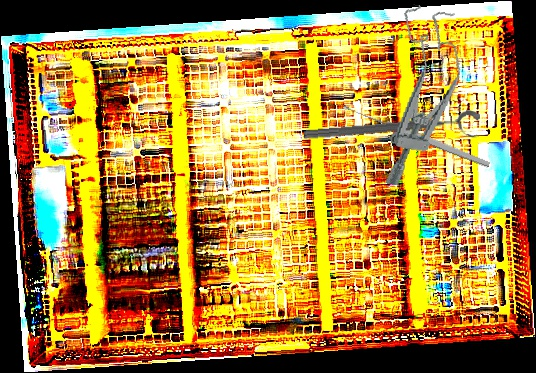Fixation Ring: (303, 109, 482, 154)
Speculum: (371, 2, 472, 194)
Surgical Spoon: (342, 101, 491, 170)
